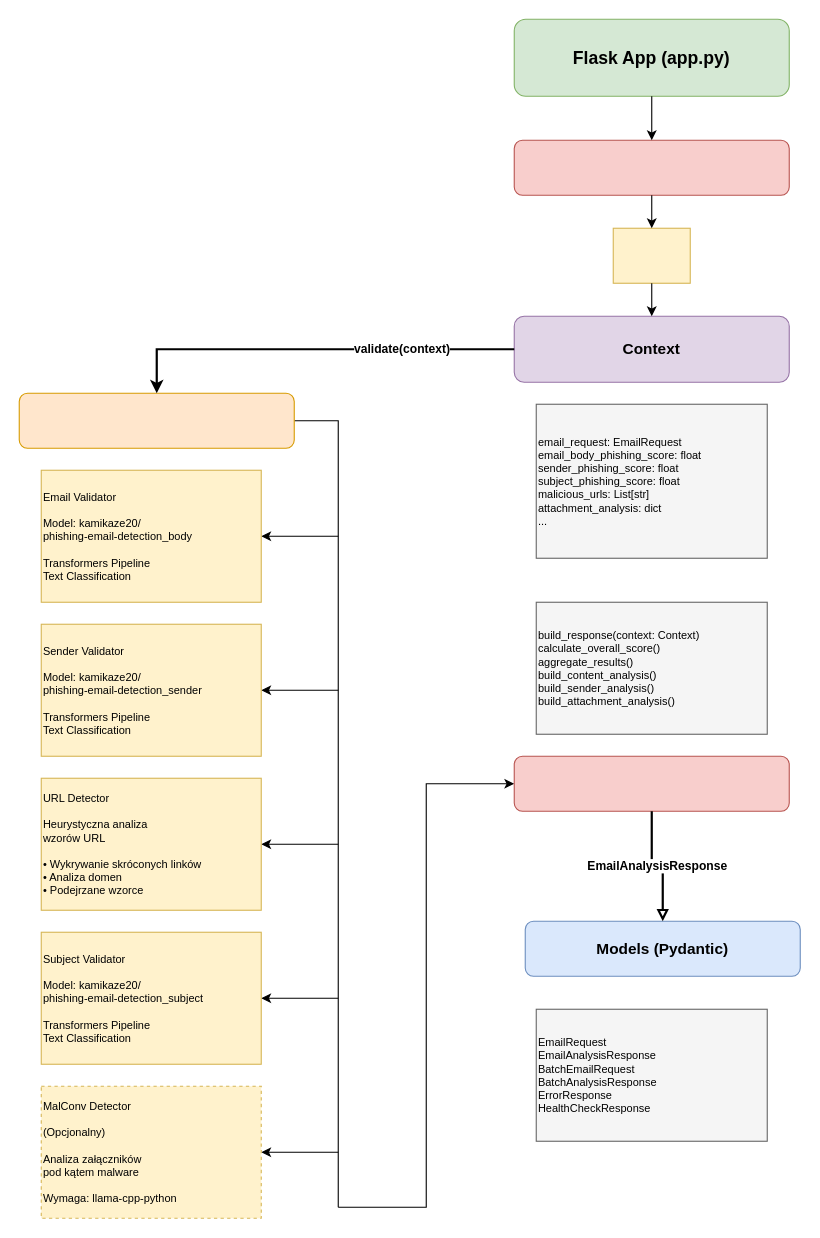
Some shapes in this 820 by 1238 pixel diagram are drawn without their labels. The shapes that lost their labels are listed below. From the top down, each one's centre as x and y in pixels, then its label:
At [651,167]: "Endpoints API".
At [651,255]: "/analyze POST".
At [156,420]: "Validators (Pipeline)".
At [651,783]: "ResponseBuilder".
